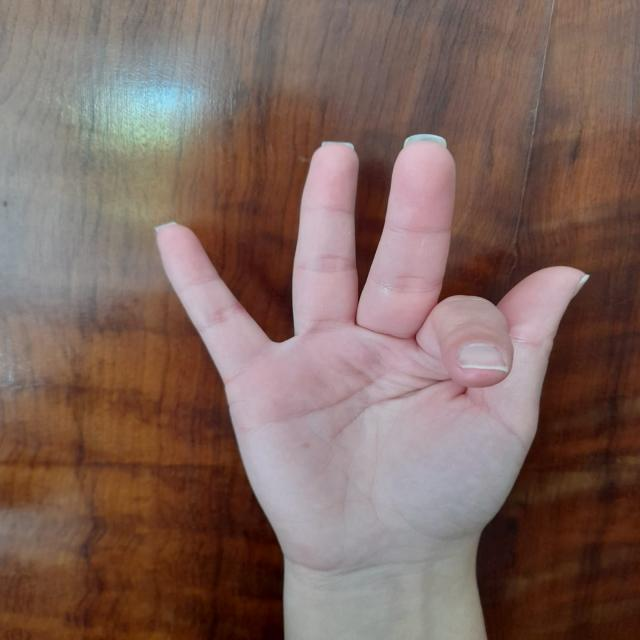F: (147, 116, 610, 552)
